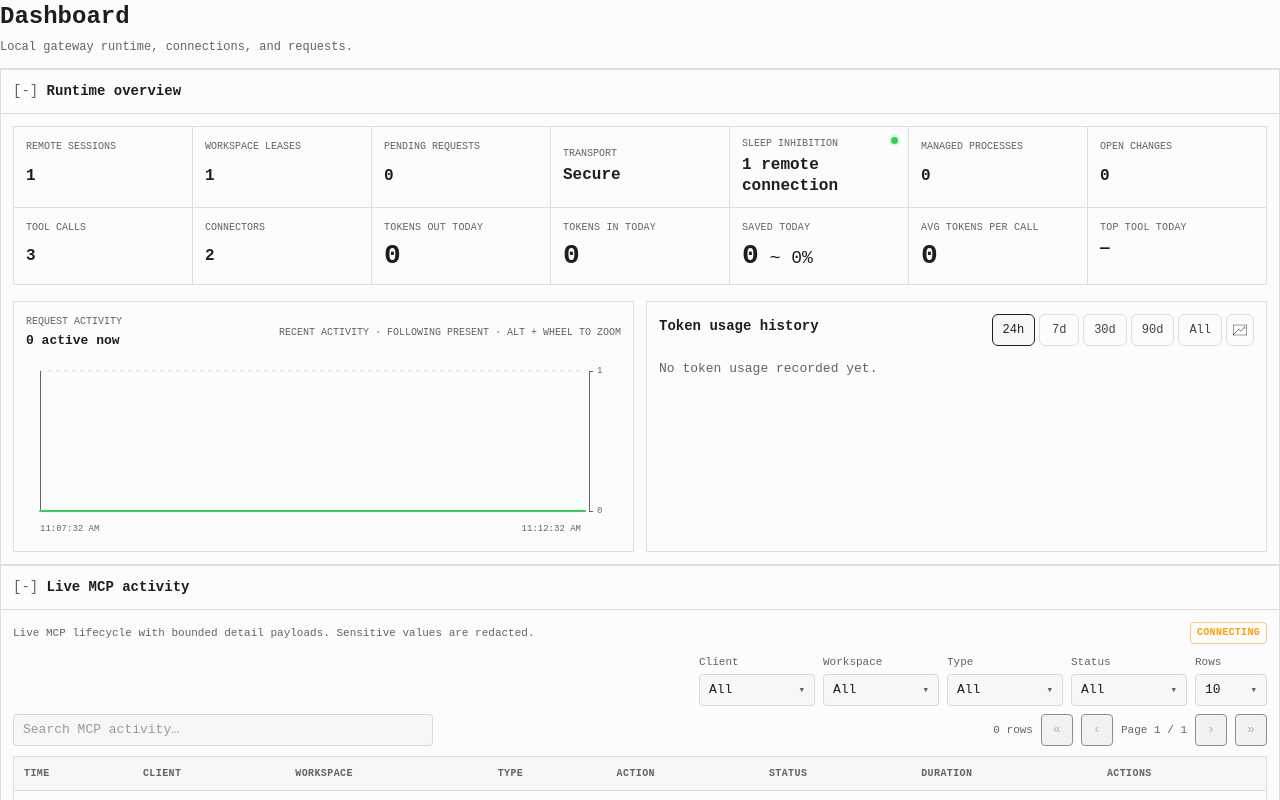
Scenario: connector creation presents the one-time token inside the React modal
This screenshot has width=1280, height=800.
Check: the heading "Dashboard" is shown, box [0,3,130,30]
Step 1. Click the button "Connectors 2" → (282, 247), box [193,208,372,285]
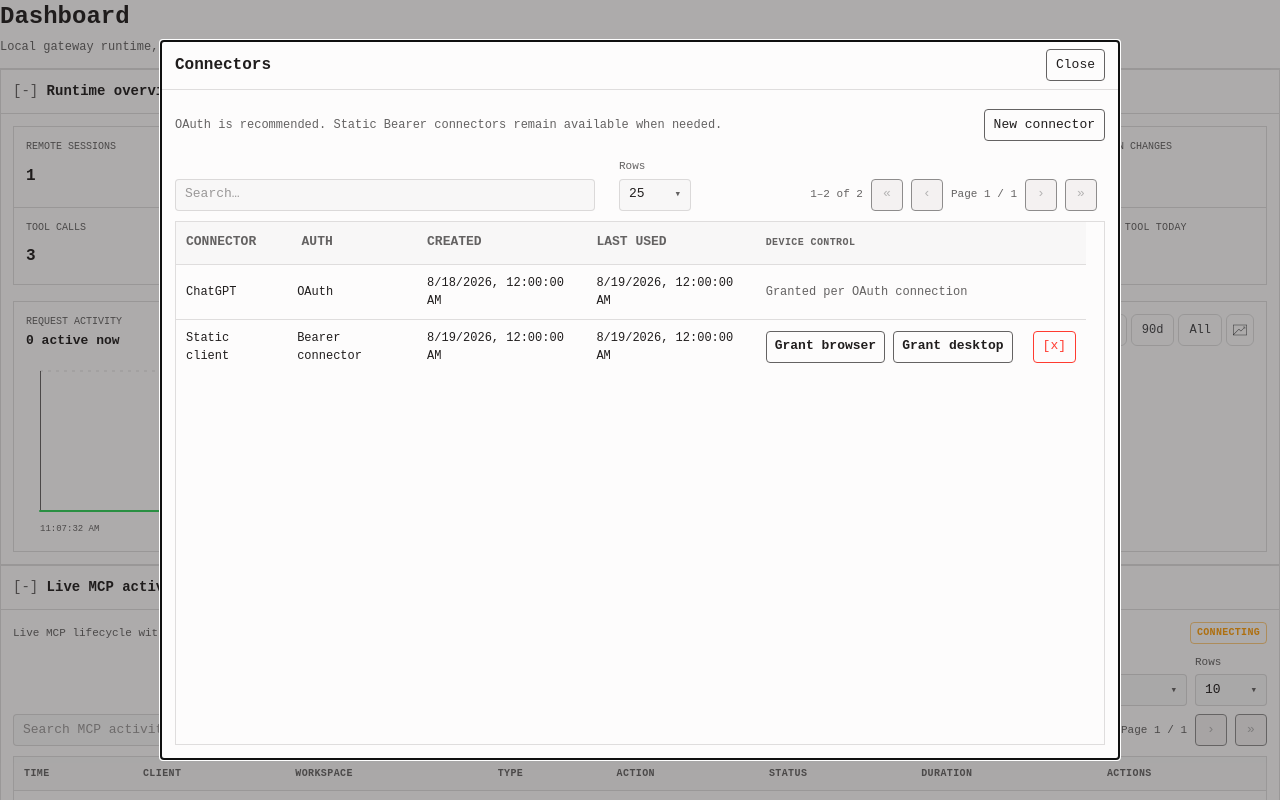
Step 2. Click the button "New connector" → (1044, 125), box [984,109,1105,141]
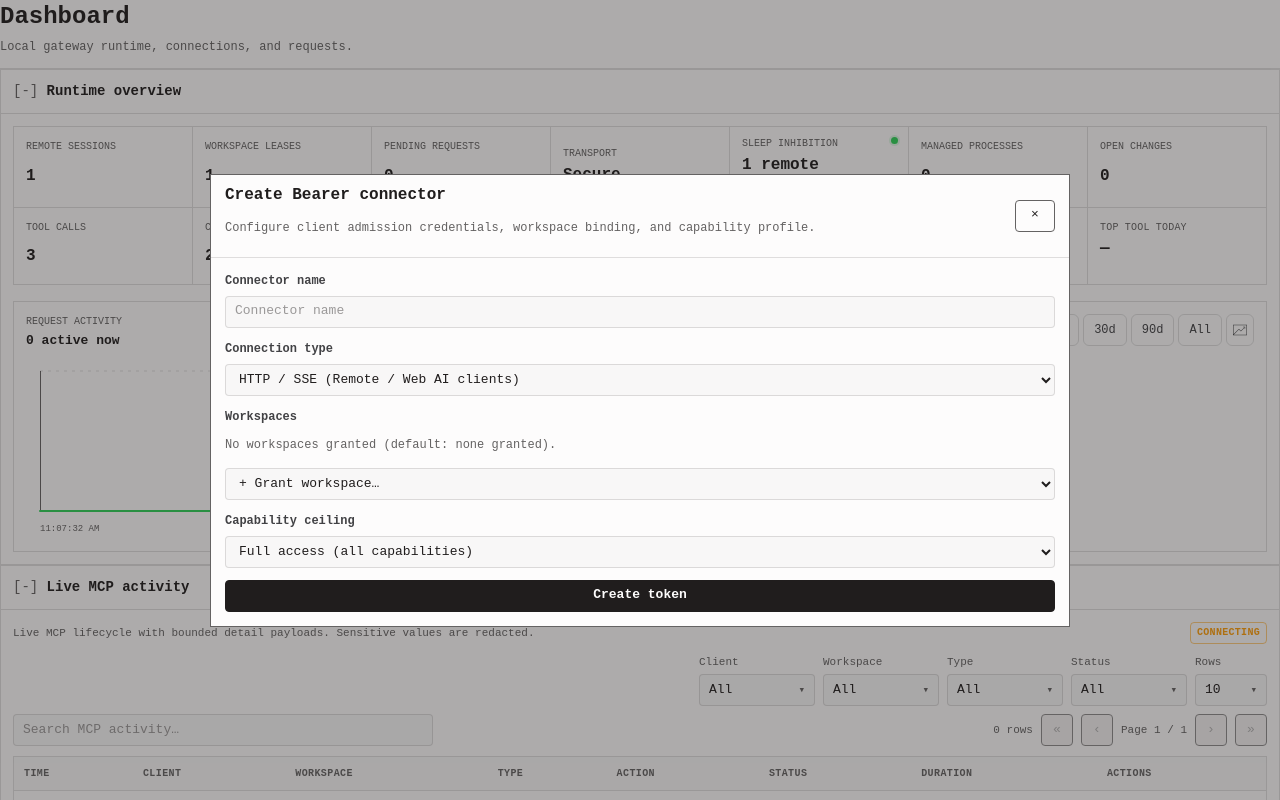
Step 3. Type "Parity client" into the field labelled "Connector name" → (640, 312), box [225,296,1055,328]
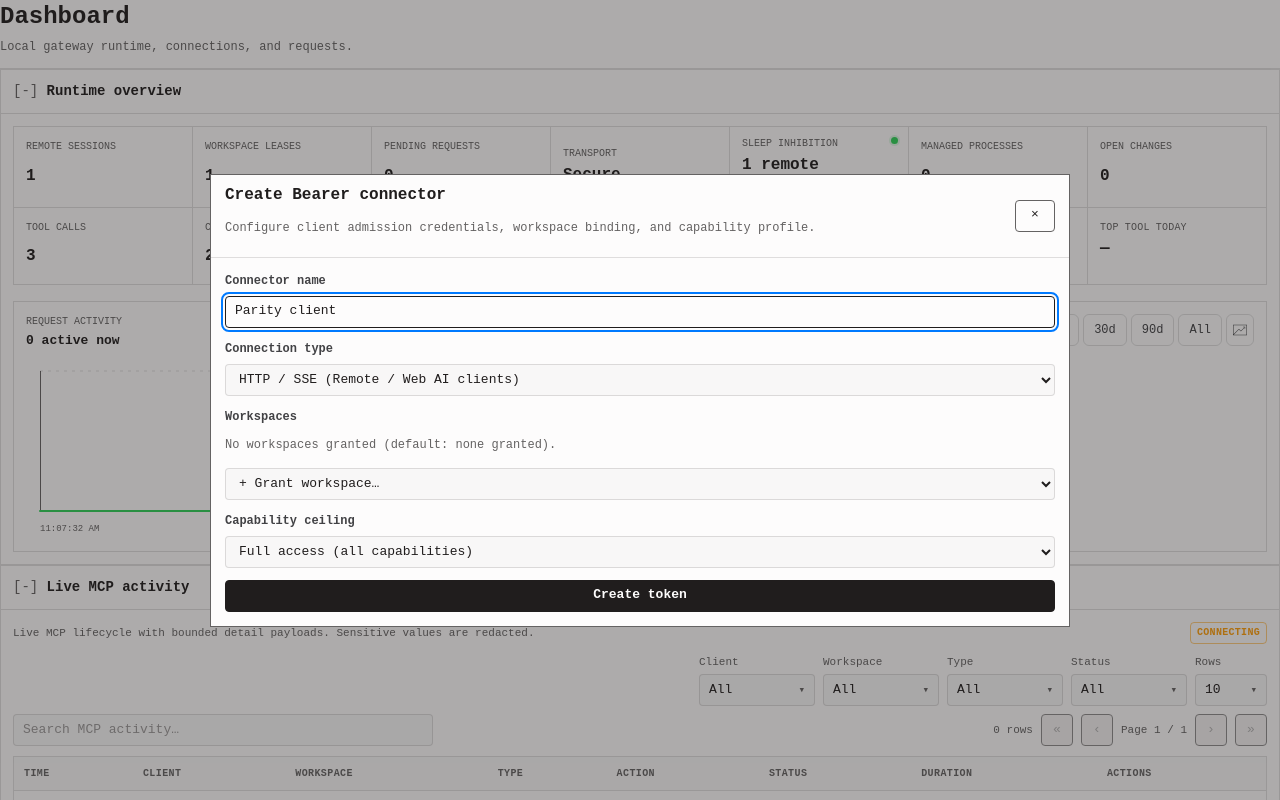
Step 4. Click the button "Create token" → (640, 596), box [225,580,1055,612]
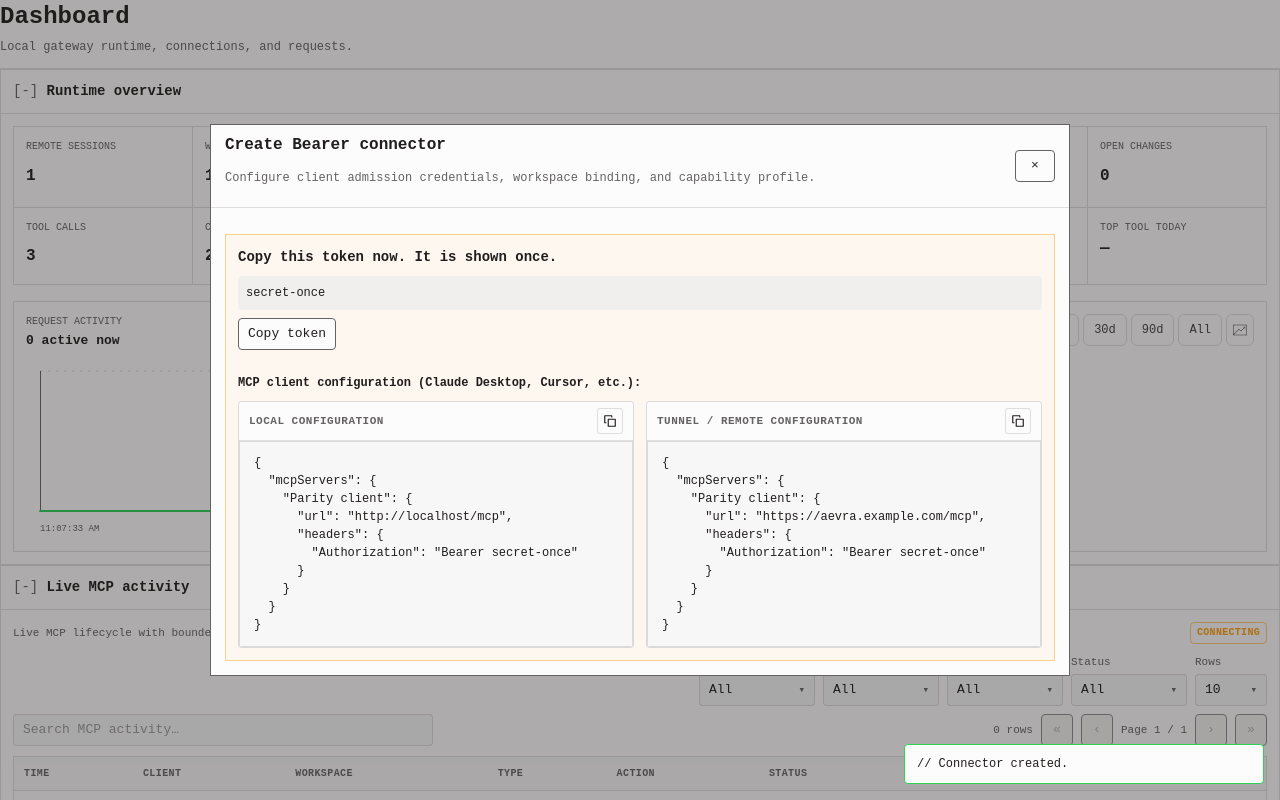
Check: the text "Copy this token now. It is shown once." is shown, box [238,249,557,265]
Check: the text "secret-once" is shown, box [238,276,1042,310]
